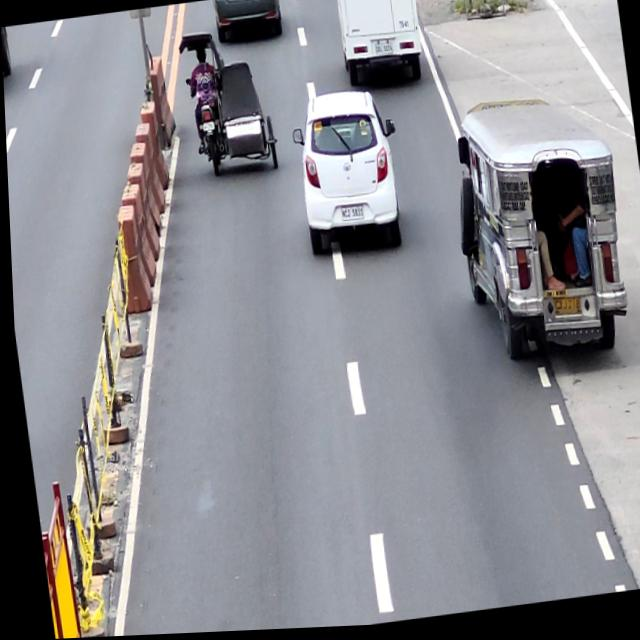Car: (286, 90, 407, 266), (332, 0, 427, 92), (213, 0, 284, 48)
Jeep: (442, 86, 635, 381)
License-Plate: (551, 301, 579, 323), (338, 208, 362, 225), (374, 44, 393, 60), (200, 123, 213, 132)
Tricycle: (178, 23, 280, 183)
